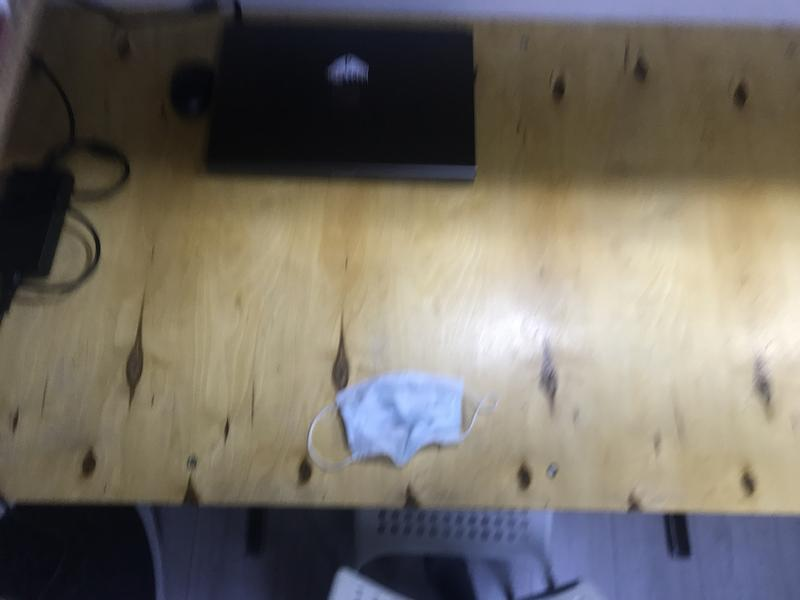medical_mask: (308, 374, 497, 470)
